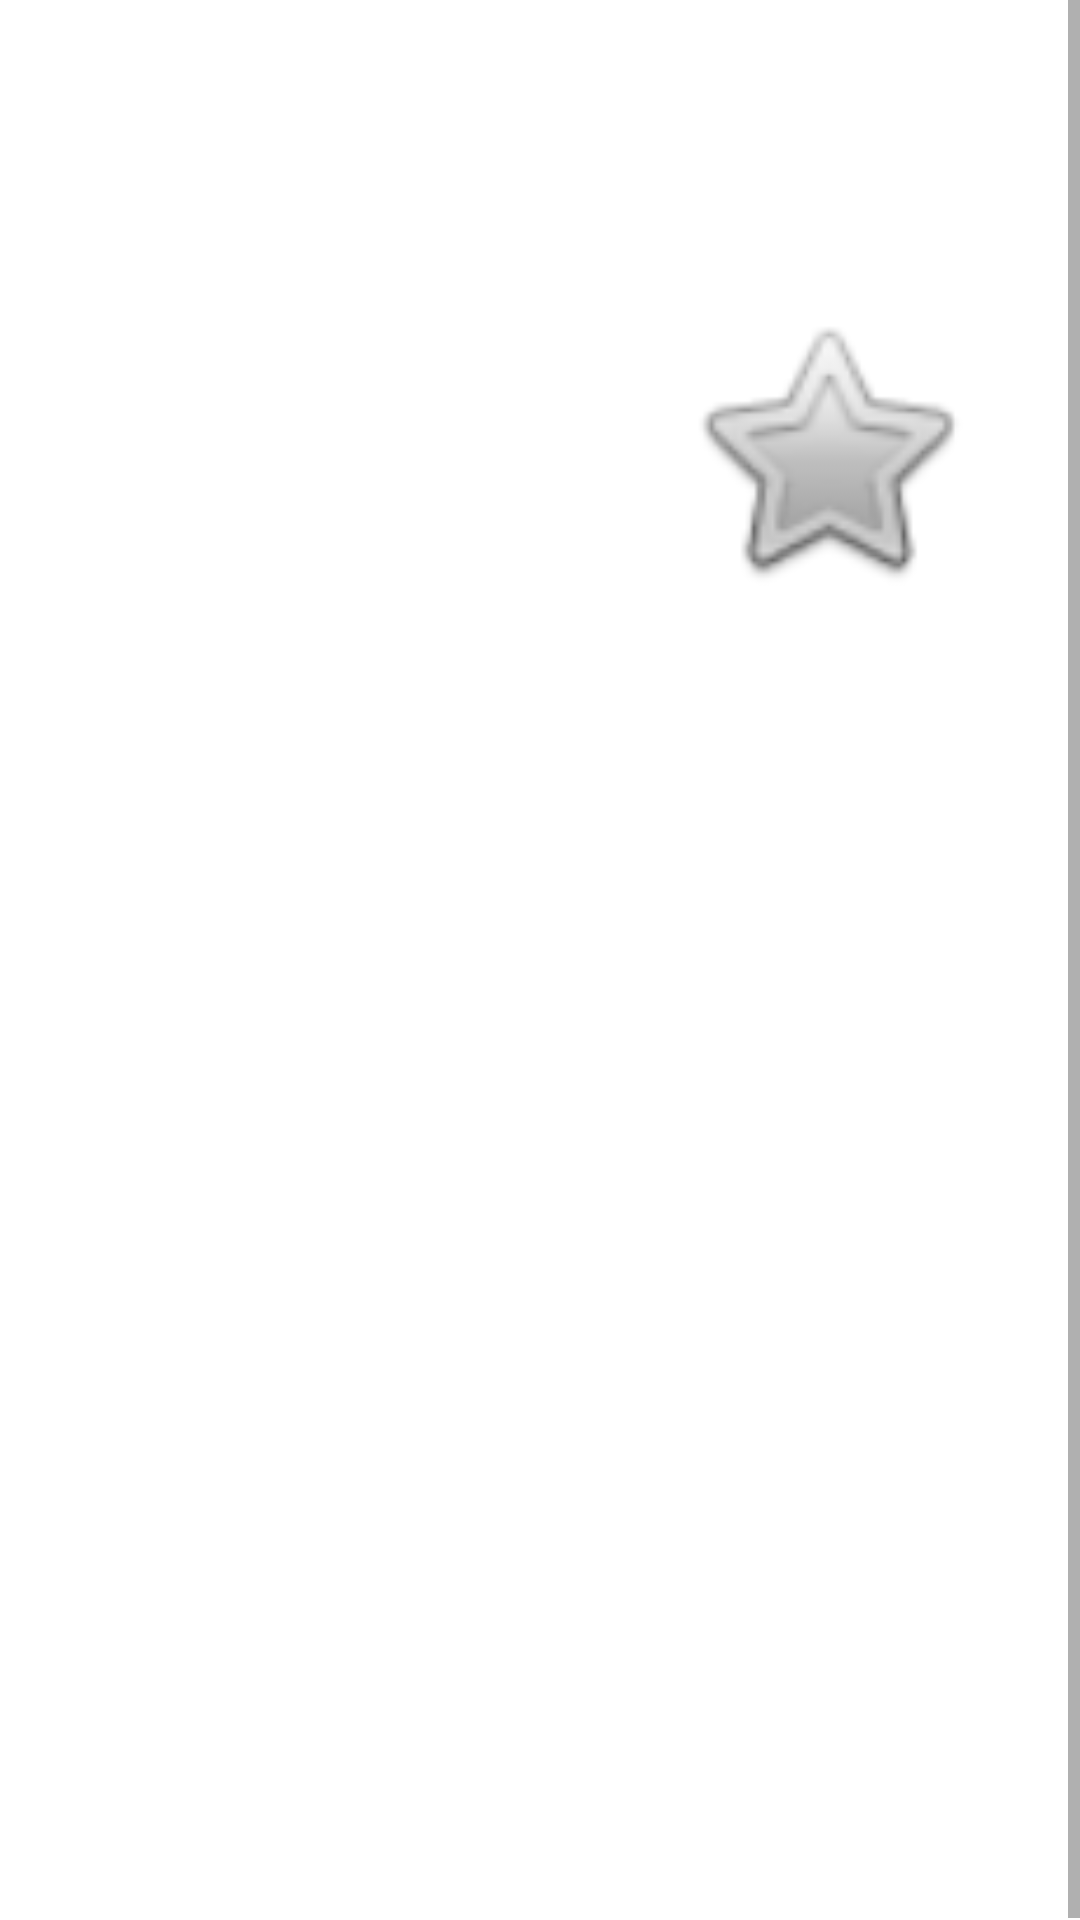

Named icons in this screenshot (1080×1920) and their centers, (x=x, y=y):
star off: (x=829, y=452)
